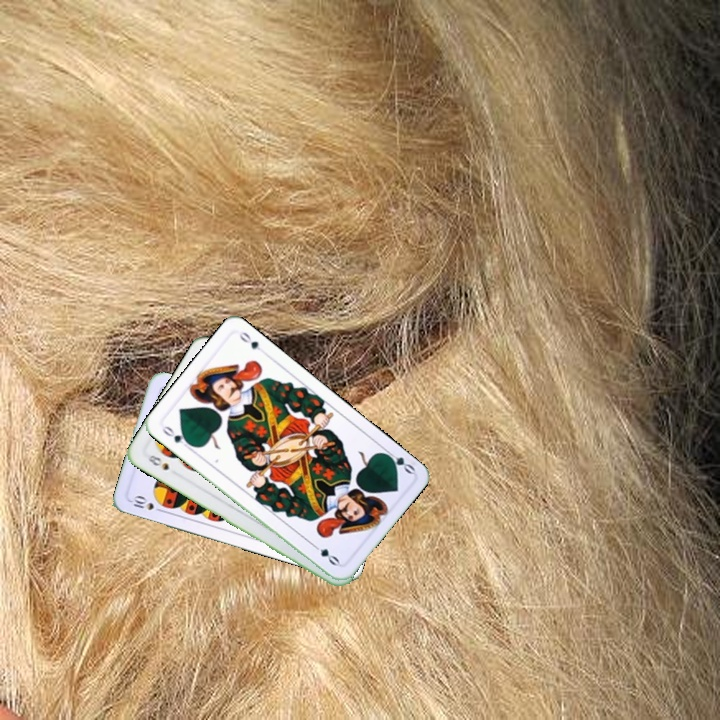GO: (380, 445, 417, 477), (158, 422, 194, 452)
S10: (127, 492, 166, 515)
S8: (141, 449, 172, 473)
